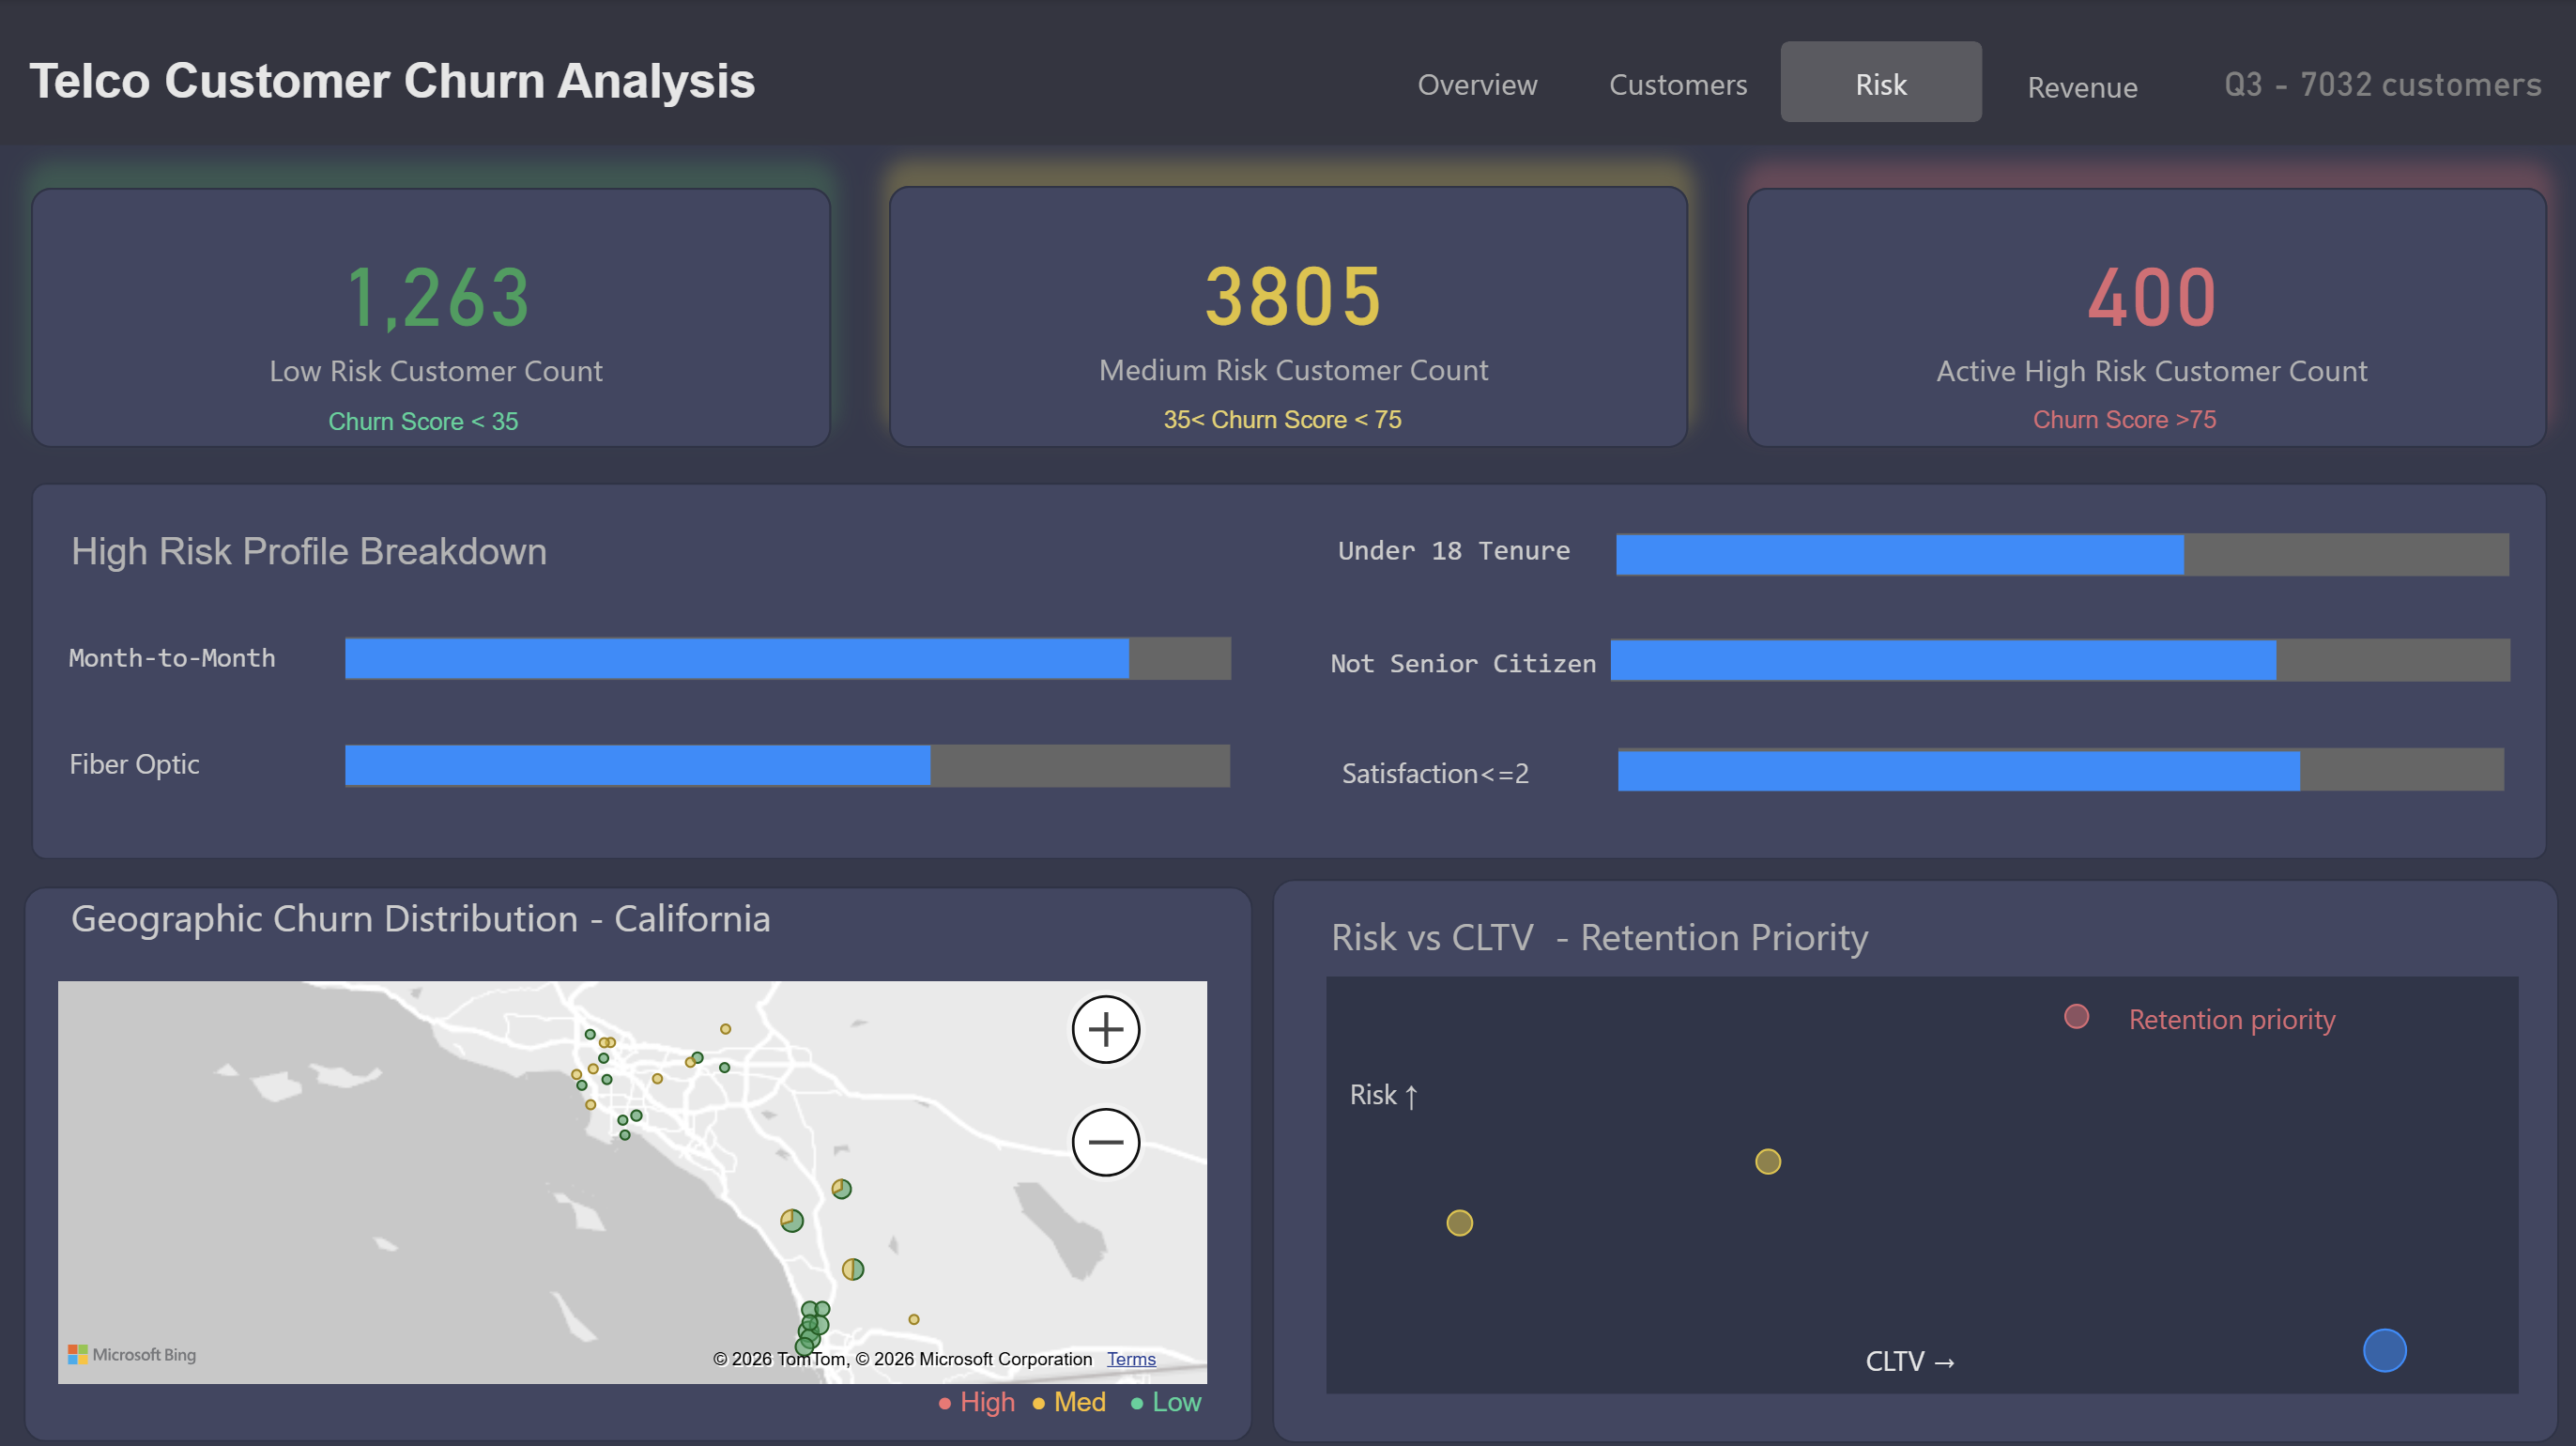

What the dashboard file says about the page in this screenshot:
{"tool":"powerbi","page":{"name":"Risk","canvas":[1280,720],"ordinal":2},"visuals":[{"type":"shape","box":[0,0,1280,72.9],"z":0,"group":"g12"},{"type":"card","title":"Medium Risk Customer Count","fields":{"Values":["_calculation.Medium Risk Customer Count"]},"box":[442,93.5,396.7,130],"z":0,"group":"g10"},{"type":"card","title":"Low Risk Customer Count","fields":{"Values":["_calculation.Low Risk Customer Count"]},"box":[17,94,397.2,129],"z":0,"group":"g8"},{"type":"card","title":"high Risk Customer Count","fields":{"Values":["_calculation.High Risk Customer Count"]},"box":[868,94.4,397.2,129],"z":0,"group":"g9"},{"type":"shape","box":[17.1,240,1248.6,187.1],"z":0,"group":"g11"},{"type":"textbox","box":[660.4,258.5,154,40.6],"z":0,"group":"g4"},{"type":"textbox","box":[656.9,314.5,153.6,49.8],"z":0,"group":"g6"},{"type":"textbox","box":[30.9,364.9,96,32.7],"z":0,"group":"g5"},{"type":"textbox","box":[662.2,369.6,149.6,36.6],"z":0,"group":"g7"},{"type":"group","id":"g1","title":"CLTV","box":[632.9,436.5,638.6,280],"z":0},{"type":"shape","box":[632.9,436.5,638.6,280],"z":0,"group":"g1"},{"type":"shape","box":[12.9,441.1,610,275.7],"z":0,"group":"g3"},{"type":"textbox","box":[10.3,22,376.4,51.3],"z":1000,"group":"g12"},{"type":"textbox","title":"Text risk","box":[573.2,193.8,139.1,29.2],"z":1000,"group":"g10"},{"type":"textbox","title":"Text risk","box":[159.4,194.2,112.4,28.8],"z":1000,"group":"g8"},{"type":"textbox","title":"Text risk","box":[1005.1,194.4,113.1,29],"z":1000,"group":"g9"},{"type":"clusteredBarChart","title":"100 progress","fields":{"Y":["_calculation.1  progress bar"]},"box":[783,246.8,473,52.4],"z":1000,"group":"g4"},{"type":"group","id":"g2","title":"Group 1","box":[30.9,299,591.5,52.6],"z":1000,"group":"g11"},{"type":"clusteredBarChart","title":"100 progress","fields":{"Y":["_calculation.1  progress bar"]},"box":[781,300.2,476.3,50.9],"z":1000,"group":"g6"},{"type":"textbox","box":[30.9,312,129.5,39.6],"z":1000,"group":"g2"},{"type":"clusteredBarChart","title":"100 progress","fields":{"Y":["_calculation.1  progress bar"]},"box":[152.7,352.1,469,51.5],"z":1000,"group":"g5"},{"type":"clusteredBarChart","title":"100 progress","fields":{"Y":["_calculation.1  progress bar"]},"box":[784,352.4,469.7,53],"z":1000,"group":"g7"},{"type":"group","id":"g3","title":"Geographic","box":[12.9,438.2,610,282.6],"z":1000},{"type":"map","title":"Geographic Churn Distribution - California","fields":{"Category":["telco telco_customer_churn_location.Zip Code"],"Y":["Avg(telco telco_customer_churn_location.Latitude)"],"X":["Avg(telco telco_customer_churn_location.Longitude)"],"Size":["_calculation.Customers Count"],"Series":["telco telco_customer_churn.Retained Risk Categories"]},"box":[25,482.7,580,210],"z":1000,"group":"g3"},{"type":"scatterChart","title":"Risk vs CLTV  - Retention Priority","fields":{"Y":["_calculation.Avg Churn Score"],"Size":["_calculation.Churned Count"],"X":["telco telco_customer_churn_status.CLTV Segment"]},"box":[660,485.1,591.4,207.1],"z":1000,"group":"g1"},{"type":"group","id":"g4","title":"Group 1","box":[660.4,246.8,595.6,52.4],"z":1125,"group":"g11"},{"type":"group","id":"g5","title":"Group 1","box":[30.9,352.1,590.8,51.5],"z":1250,"group":"g11"},{"type":"group","id":"g6","title":"Group 1","box":[656.9,300,600.4,64.3],"z":1500,"group":"g11"},{"type":"group","id":"g7","title":"Group 1","box":[662.2,352.4,591.6,53.8],"z":1750,"group":"g11"},{"type":"card","fields":{"Values":["_calculation.Sub Header"]},"box":[1098.6,18.6,171.4,48.6],"z":2000,"group":"g12"},{"type":"group","id":"g8","title":"low risk","box":[17,94,397.2,129],"z":2000},{"type":"clusteredBarChart","title":"Under 18 Tenure %","fields":{"Y":["_calculation.Under 24 Tenure %"]},"box":[783,246.8,472.3,52.2],"z":2000,"group":"g4"},{"type":"textbox","box":[31.9,258.3,464.5,41.6],"z":2000,"group":"g11"},{"type":"clusteredBarChart","title":"Not Senior Citizen","fields":{"Y":["_calculation.Senior Citizen Churn %"]},"box":[781,300,473,50.6],"z":2000,"group":"g6"},{"type":"clusteredBarChart","title":"Fiber Optic","fields":{"Y":["_calculation.Fiber Optic Internet Churn Rate"]},"box":[152.7,352.1,469,50.5],"z":2000,"group":"g5"},{"type":"clusteredBarChart","title":"Under 3 Satisfaction","fields":{"Y":["_calculation.Under 3 Stasfaction Score Churn %"]},"box":[784,354,469,50.9],"z":2000,"group":"g7"},{"type":"textbox","box":[31.5,438.2,475.7,35.7],"z":2000,"group":"g3"},{"type":"textbox","title":"Text header","box":[657.2,446.5,374.3,58.6],"z":2000,"group":"g1"},{"type":"actionButton","title":"Button revenue","box":[985,22.6,100.4,39.4],"z":2062,"group":"g13"},{"type":"actionButton","title":"Button risk","box":[885,21,100,40],"z":2125,"group":"g13"},{"type":"actionButton","title":"Button overview","box":[685,21,100,40],"z":2250,"group":"g13"},{"type":"actionButton","title":"Button customer","box":[785,21,100,40],"z":2500,"group":"g13"},{"type":"group","id":"g9","title":"High Risk","box":[868,94.4,397.2,129],"z":3000},{"type":"textbox","title":"Text cltv","box":[923,661.1,76.1,41.9],"z":3000,"group":"g1"},{"type":"textbox","title":"legend","box":[461.4,663.8,157.5,57],"z":3000,"group":"g3"},{"type":"group","id":"g10","title":"Medium","box":[442,93.5,396.7,130],"z":4000},{"type":"textbox","title":"Text risk","box":[666.3,528.5,77.4,47.1],"z":4000,"group":"g1"},{"type":"group","id":"g11","title":"High Risk Profile","box":[17.1,240,1248.6,187.1],"z":5000},{"type":"clusteredBarChart","title":"100 progress","fields":{"Y":["_calculation.1  progress bar"]},"box":[152.7,299,469.7,51.1],"z":5000,"group":"g2"},{"type":"textbox","title":"Text priotity","box":[1053.1,491.5,180,38.6],"z":5000,"group":"g1"},{"type":"group","id":"g12","title":"Header","box":[0,0,1280,73.2],"z":6000},{"type":"clusteredBarChart","title":"Month to Month Churn Rate","fields":{"Y":["_calculation.Month to Month Contract Churn Rate"]},"box":[152.7,299,469,50.9],"z":6000,"group":"g2"},{"type":"group","id":"g13","title":"Buttons","box":[685,21,400.4,40.7],"z":6001,"group":"g12"}]}

Visuals, with their boxes in screenshot pixels (x1, y1, x2, y2), scaled from the page's 1280x720 canvas onto the 2576x1446 screenshot:
shape: x1=0, y1=0, x2=2575, y2=146
"Medium Risk Customer Count" card: x1=890, y1=188, x2=1688, y2=449
"Low Risk Customer Count" card: x1=34, y1=189, x2=834, y2=448
"high Risk Customer Count" card: x1=1747, y1=190, x2=2546, y2=449
shape: x1=35, y1=482, x2=2547, y2=858
textbox: x1=1329, y1=519, x2=1639, y2=601
textbox: x1=1322, y1=632, x2=1632, y2=731
textbox: x1=62, y1=732, x2=255, y2=798
textbox: x1=1333, y1=743, x2=1633, y2=816
"CLTV" group: x1=1274, y1=877, x2=2559, y2=1439
shape: x1=1274, y1=877, x2=2559, y2=1439
shape: x1=26, y1=885, x2=1253, y2=1439
textbox: x1=21, y1=44, x2=778, y2=147
"Text risk" textbox: x1=1154, y1=390, x2=1434, y2=448
"Text risk" textbox: x1=321, y1=390, x2=547, y2=448
"Text risk" textbox: x1=2023, y1=391, x2=2250, y2=449
"100 progress" clusteredBarChart: x1=1576, y1=496, x2=2528, y2=601
"Group 1" group: x1=62, y1=601, x2=1252, y2=706
"100 progress" clusteredBarChart: x1=1572, y1=603, x2=2530, y2=705
textbox: x1=62, y1=626, x2=323, y2=706
"100 progress" clusteredBarChart: x1=307, y1=707, x2=1251, y2=810
"100 progress" clusteredBarChart: x1=1578, y1=708, x2=2523, y2=814
"Geographic" group: x1=26, y1=880, x2=1253, y2=1445
"Geographic Churn Distribution - California" map: x1=51, y1=969, x2=1218, y2=1392
"Risk vs CLTV  - Retention Priority" scatterChart: x1=1328, y1=975, x2=2519, y2=1391
"Group 1" group: x1=1329, y1=496, x2=2528, y2=601
"Group 1" group: x1=62, y1=707, x2=1251, y2=810
"Group 1" group: x1=1322, y1=603, x2=2530, y2=731
"Group 1" group: x1=1333, y1=708, x2=2523, y2=816
card - _calculation.Sub Header: x1=2211, y1=38, x2=2556, y2=135
"low risk" group: x1=34, y1=189, x2=834, y2=448
"Under 18 Tenure %" clusteredBarChart: x1=1576, y1=496, x2=2526, y2=601
textbox: x1=64, y1=518, x2=999, y2=602
"Not Senior Citizen" clusteredBarChart: x1=1572, y1=603, x2=2523, y2=704
"Fiber Optic" clusteredBarChart: x1=307, y1=707, x2=1251, y2=808
"Under 3 Satisfaction" clusteredBarChart: x1=1578, y1=711, x2=2522, y2=813
textbox: x1=64, y1=880, x2=1020, y2=952
"Text header" textbox: x1=1323, y1=897, x2=2076, y2=1014
"Button revenue" actionButton: x1=1983, y1=45, x2=2185, y2=125
"Button risk" actionButton: x1=1781, y1=42, x2=1983, y2=122
"Button overview" actionButton: x1=1378, y1=42, x2=1580, y2=122
"Button customer" actionButton: x1=1580, y1=42, x2=1781, y2=122
"High Risk" group: x1=1747, y1=190, x2=2546, y2=449
"Text cltv" textbox: x1=1858, y1=1328, x2=2011, y2=1412
"legend" textbox: x1=928, y1=1333, x2=1246, y2=1445
"Medium" group: x1=890, y1=188, x2=1688, y2=449
"Text risk" textbox: x1=1341, y1=1061, x2=1496, y2=1156
"High Risk Profile" group: x1=35, y1=482, x2=2547, y2=858
"100 progress" clusteredBarChart: x1=307, y1=601, x2=1252, y2=703
"Text priotity" textbox: x1=2120, y1=987, x2=2481, y2=1065
"Header" group: x1=0, y1=0, x2=2575, y2=147
"Month to Month Churn Rate" clusteredBarChart: x1=307, y1=601, x2=1251, y2=702
"Buttons" group: x1=1378, y1=42, x2=2185, y2=124
